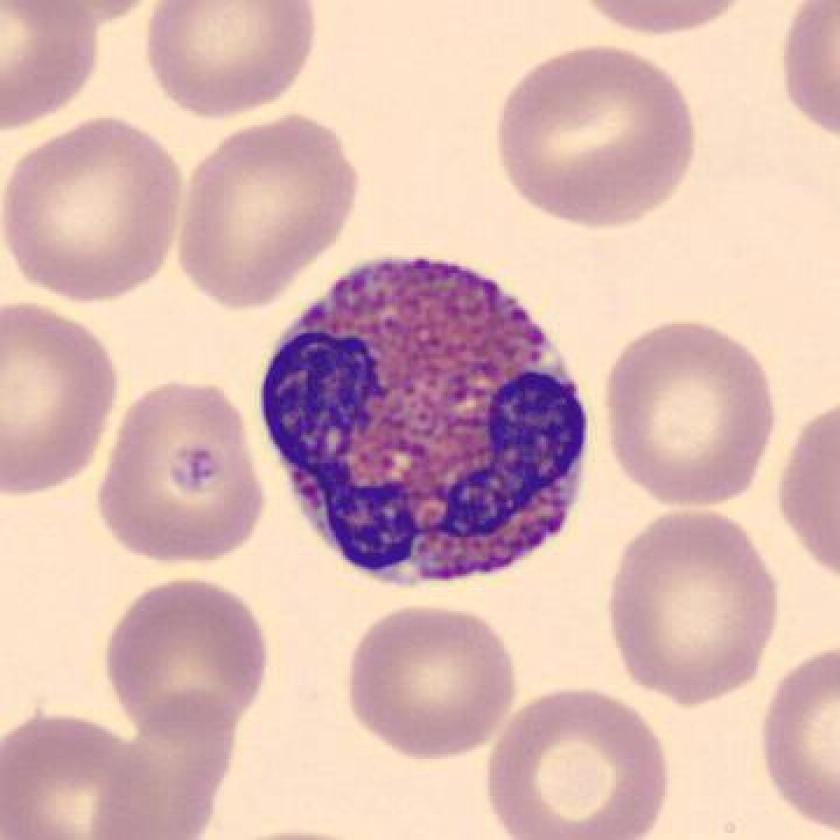eosinophil: (244, 242, 601, 598)
